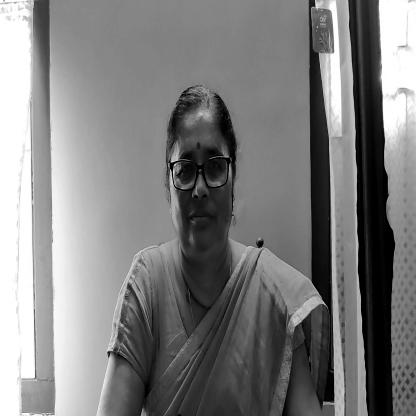Normal: (166, 95, 236, 252)
